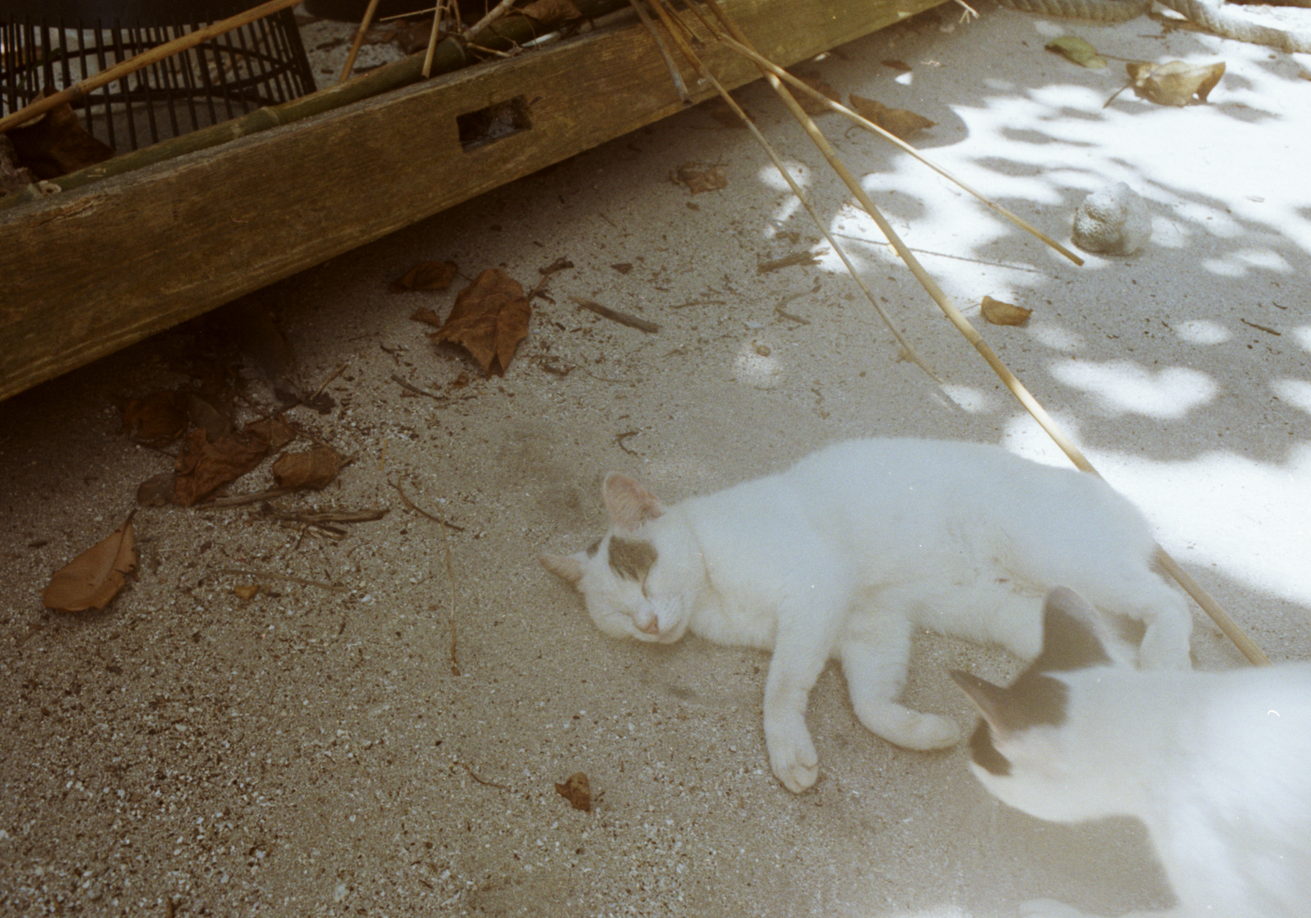cat: (535, 436, 1199, 798), (947, 582, 1310, 917)
